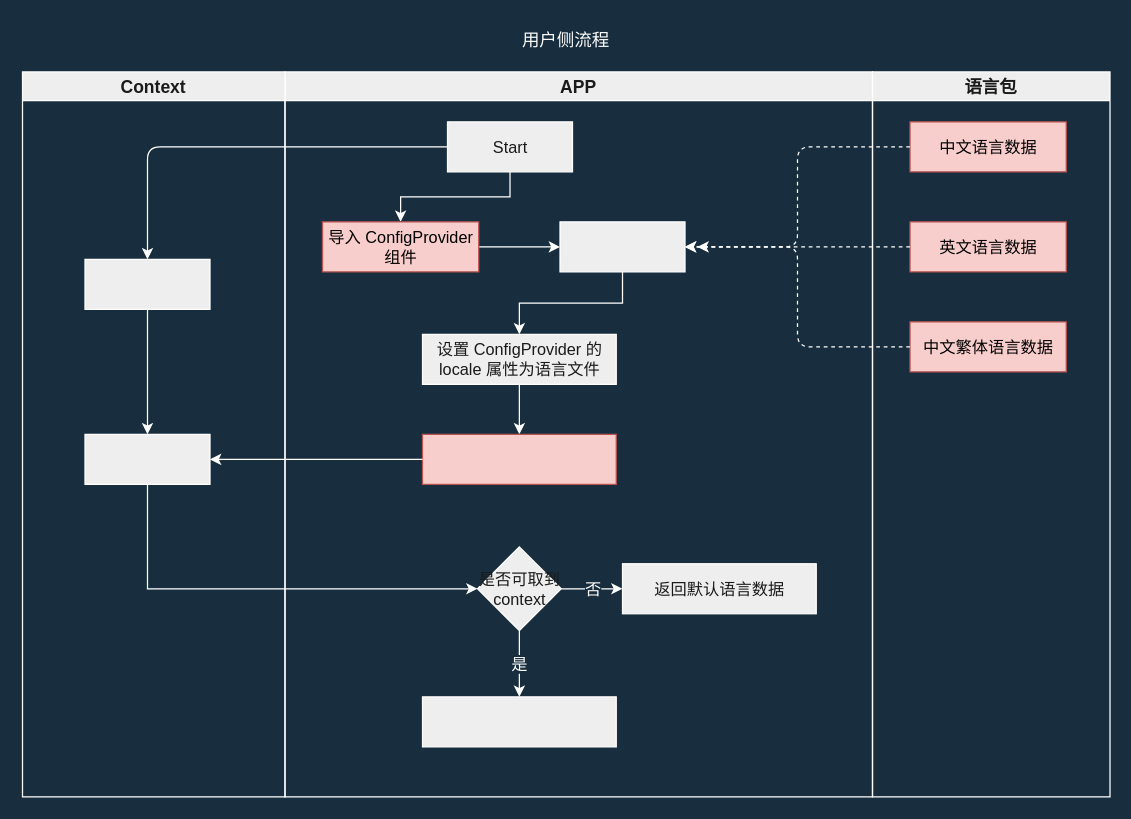
This 1131x819 diagram has some shape labels left out. The box of each missing label's shape, as (x1, y1, x2, y2) in pixels:
Context 对象实例: (84, 433, 210, 484)
创建 Context 对象: (84, 258, 210, 309)
导入语言文件: (559, 221, 685, 272)
组件内部导入 useConfig: (421, 433, 616, 484)
返回用户指定 语言数据: (421, 696, 616, 747)
